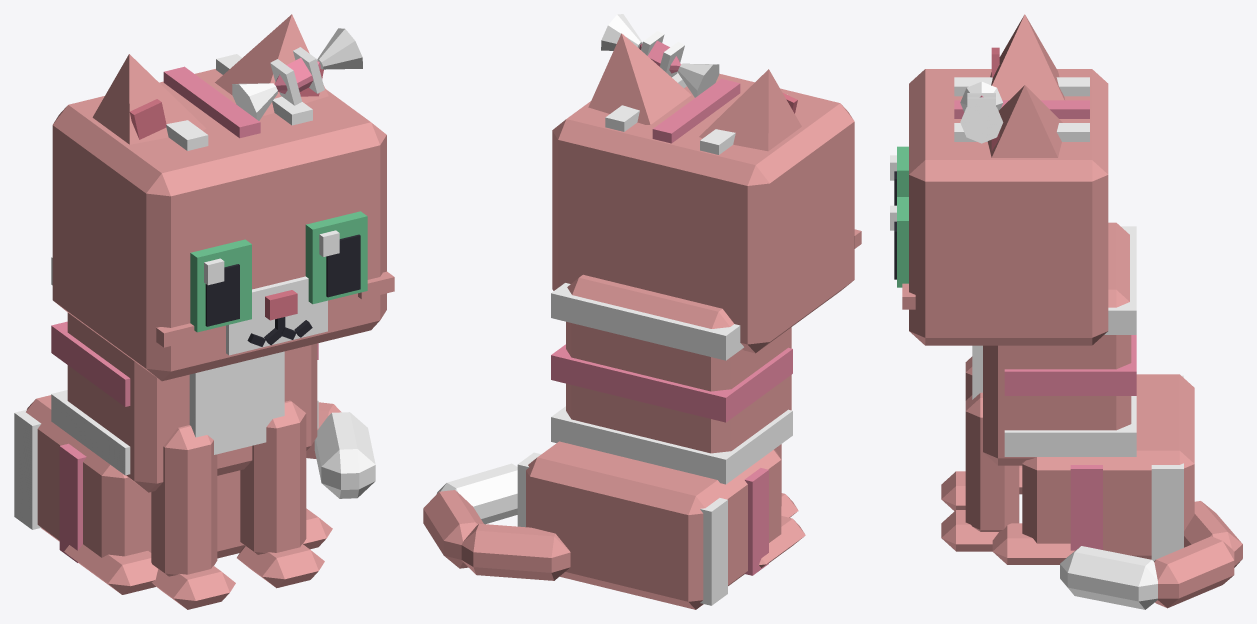
Rendered from CatCafe_Cat_Taffy_Sit.glb.
3 views of the same model, side by side, from view 1: azimuth 30°, elevation 25°; view 2: azimuth 150°, elevation 25°; view 3: azimuth 270°, elevation 25° (orthographic). The views are drawn at different scales.
Visible parts, largest first — view 1: CatCafe_Cat_Taffy_Sit_Head, CatCafe_Cat_Taffy_Sit_Body, CatCafe_Cat_Taffy_Sit_LegF2, CatCafe_Cat_Taffy_Sit_LegF1, CatCafe_Cat_Taffy_Sit_Eye1, CatCafe_Cat_Taffy_Sit_Eye2, CatCafe_Cat_Taffy_Sit_EarR, CatCafe_Cat_Taffy_Sit_Tail, CatCafe_Cat_Taffy_Sit_Prop, CatCafe_Cat_Taffy_Sit_EarL; view 2: CatCafe_Cat_Taffy_Sit_Body, CatCafe_Cat_Taffy_Sit_Head, CatCafe_Cat_Taffy_Sit_Tail, CatCafe_Cat_Taffy_Sit_EarL, CatCafe_Cat_Taffy_Sit_EarR, CatCafe_Cat_Taffy_Sit_Prop; view 3: CatCafe_Cat_Taffy_Sit_Head, CatCafe_Cat_Taffy_Sit_Body, CatCafe_Cat_Taffy_Sit_Tail, CatCafe_Cat_Taffy_Sit_LegF1, CatCafe_Cat_Taffy_Sit_EarR, CatCafe_Cat_Taffy_Sit_EarL, CatCafe_Cat_Taffy_Sit_Prop, CatCafe_Cat_Taffy_Sit_Eye1, CatCafe_Cat_Taffy_Sit_LegF2, CatCafe_Cat_Taffy_Sit_Eye2.
Boxes of the visible parts, left/top/right/bottom form: CatCafe_Cat_Taffy_Sit_Head: left=52, top=54, right=394, bottom=381; CatCafe_Cat_Taffy_Sit_Body: left=14, top=257, right=332, bottom=594; CatCafe_Cat_Taffy_Sit_LegF2: left=151, top=425, right=235, bottom=609; CatCafe_Cat_Taffy_Sit_LegF1: left=237, top=400, right=324, bottom=588; CatCafe_Cat_Taffy_Sit_Eye1: left=305, top=211, right=367, bottom=304; CatCafe_Cat_Taffy_Sit_Eye2: left=190, top=239, right=251, bottom=332; CatCafe_Cat_Taffy_Sit_EarR: left=92, top=54, right=206, bottom=144; CatCafe_Cat_Taffy_Sit_Tail: left=306, top=402, right=375, bottom=498; CatCafe_Cat_Taffy_Sit_Prop: left=232, top=28, right=362, bottom=120; CatCafe_Cat_Taffy_Sit_EarL: left=215, top=14, right=328, bottom=115; CatCafe_Cat_Taffy_Sit_Body: left=517, top=274, right=805, bottom=609; CatCafe_Cat_Taffy_Sit_Head: left=552, top=64, right=861, bottom=353; CatCafe_Cat_Taffy_Sit_Tail: left=423, top=463, right=570, bottom=580; CatCafe_Cat_Taffy_Sit_EarL: left=588, top=33, right=690, bottom=124; CatCafe_Cat_Taffy_Sit_EarR: left=699, top=69, right=801, bottom=151; CatCafe_Cat_Taffy_Sit_Prop: left=601, top=14, right=719, bottom=97; CatCafe_Cat_Taffy_Sit_Head: left=902, top=69, right=1108, bottom=345; CatCafe_Cat_Taffy_Sit_Body: left=972, top=222, right=1194, bottom=564; CatCafe_Cat_Taffy_Sit_Tail: left=1060, top=501, right=1242, bottom=609; CatCafe_Cat_Taffy_Sit_LegF1: left=941, top=392, right=1019, bottom=551; CatCafe_Cat_Taffy_Sit_EarR: left=990, top=14, right=1064, bottom=100; CatCafe_Cat_Taffy_Sit_EarL: left=988, top=85, right=1062, bottom=157; CatCafe_Cat_Taffy_Sit_Prop: left=960, top=81, right=1003, bottom=143; CatCafe_Cat_Taffy_Sit_Eye1: left=890, top=197, right=908, bottom=287; CatCafe_Cat_Taffy_Sit_LegF2: left=941, top=356, right=972, bottom=510; CatCafe_Cat_Taffy_Sit_Eye2: left=890, top=146, right=908, bottom=205.
Size of the model in its own units: 1.24 by 1.85 by 1.24.
1 material, 1 textured.
